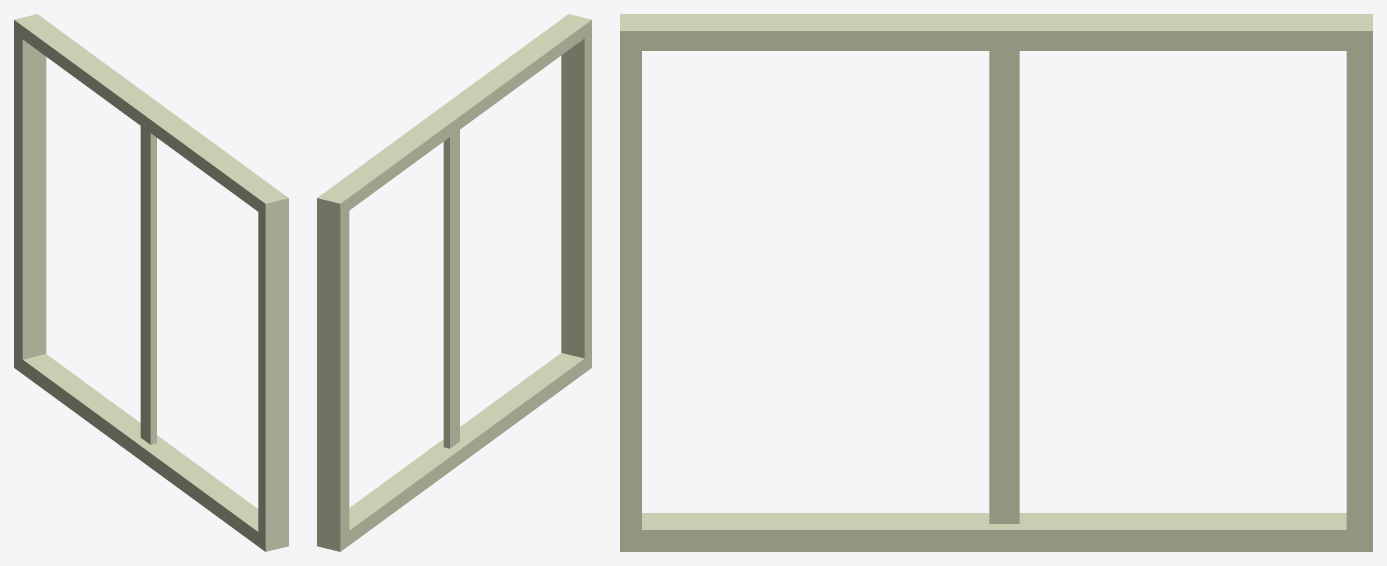
The model's file is Window.fbx.
3 views of the same model, side by side, from view 1: azimuth 30°, elevation 25°; view 2: azimuth 150°, elevation 25°; view 3: azimuth 270°, elevation 25° (orthographic). The views are drawn at different scales.
Visible parts, largest first — view 1: Cube.001; view 2: Cube.001; view 3: Cube.001.
Part boxes in pixels (<box>): Cube.001: <box>14,14,288,551</box>; Cube.001: <box>317,14,591,551</box>; Cube.001: <box>620,14,1372,551</box>.
Size of the model in its own units: 8.71 by 124 by 162.
